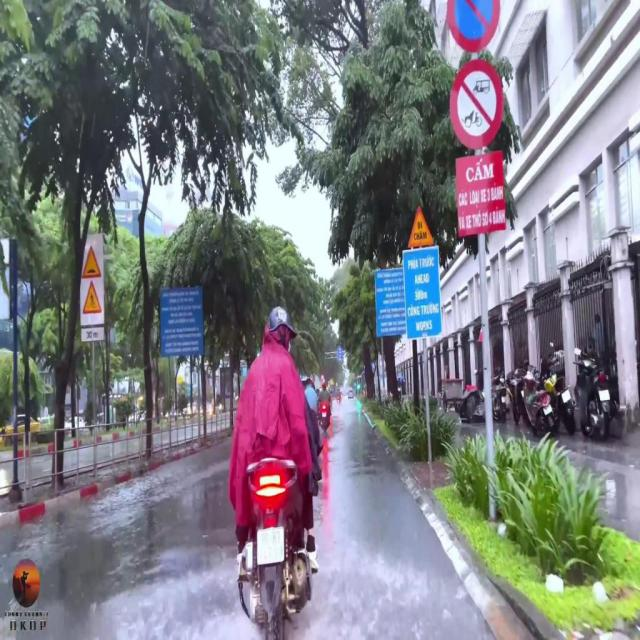cam_cac_loai_xe_3_banh: (448, 57, 505, 151)
cam_do_xe: (446, 0, 501, 53)
chu_y_nguoi_di_bo_cat_ngang: (81, 277, 103, 313)
di_cham: (407, 202, 435, 250)
duong_co_song_map_mo_nhan_tao: (80, 243, 102, 280)
khac: (402, 246, 442, 340), (82, 327, 104, 342)
